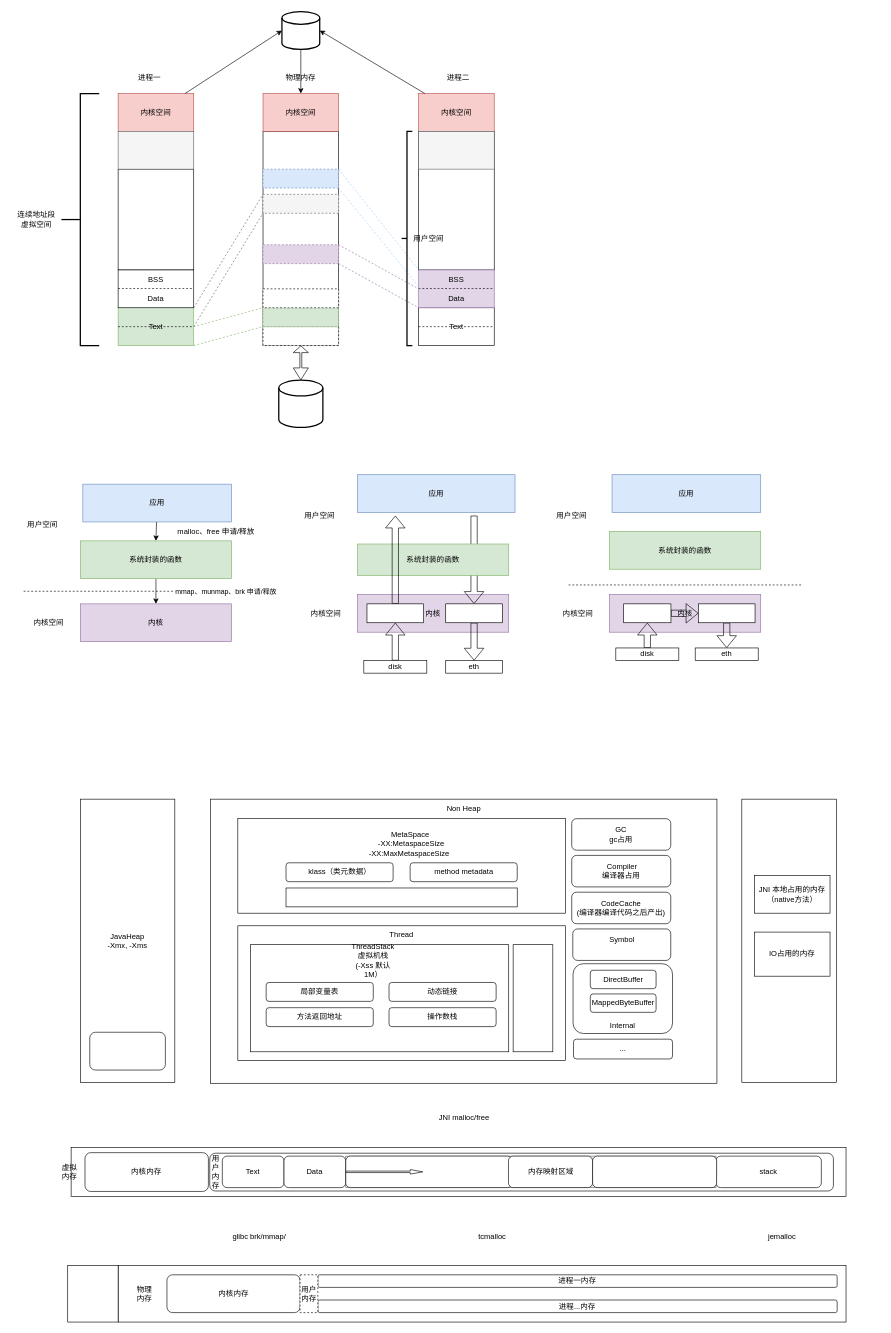
This 891x1333 diagram has some shape labels left out. Each missing label, with the centre of its shape:
brk: the point at 428,1171
mmu: the point at 300,30
MMU 内存管理: the point at 92,1293
swap(disk): the point at 300,403
Thread 线程对象本身占用: the point at 533,998
字符串常量池: the point at 127,1051
运行时常量池（类、方法、字段的符号引用，编译时生成的字面量）: the point at 401,897
